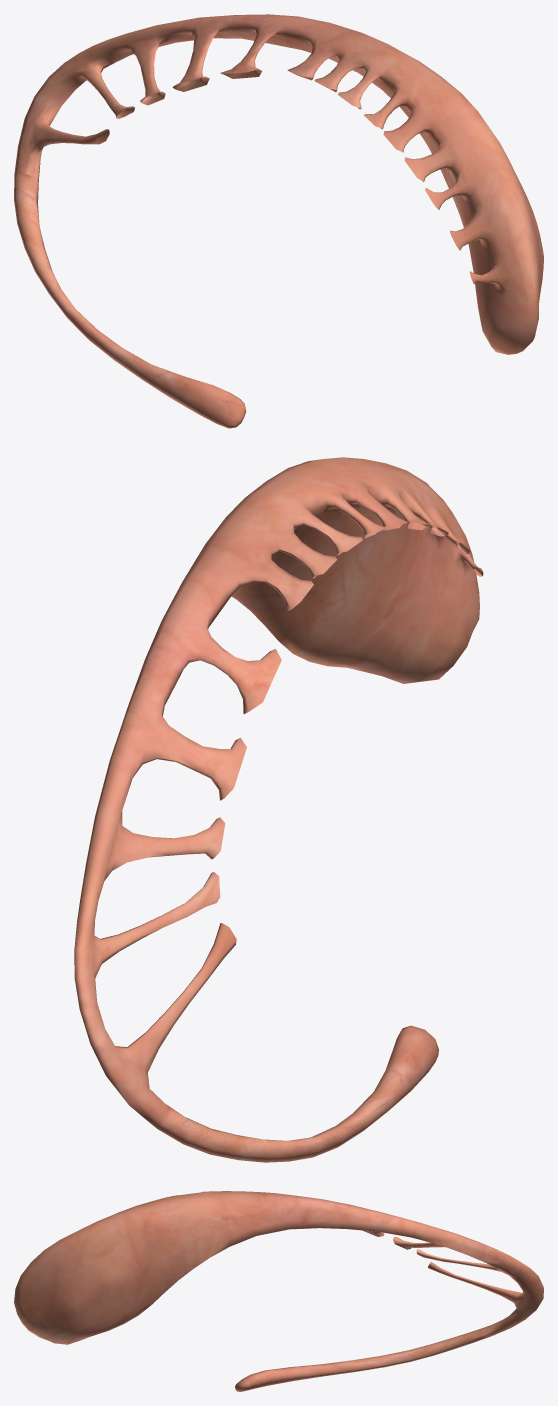
File: r_caudate01.fbx
3 views of the same model, one above another, from view 1: azimuth 30°, elevation 25°; view 2: azimuth 150°, elevation 25°; view 3: azimuth 270°, elevation 25° (orthographic). The views are drawn at different scales.
Parts seen in each view (by area): view 1: R_Caudate_Nucleus; view 2: R_Caudate_Nucleus; view 3: R_Caudate_Nucleus.
Part boxes in pixels (bbox=[...]): R_Caudate_Nucleus: bbox=[14, 14, 543, 428]; R_Caudate_Nucleus: bbox=[74, 457, 483, 1162]; R_Caudate_Nucleus: bbox=[14, 1191, 543, 1391].
Size of the model in its own units: 2.6 by 3.69 by 7.26.
Materials: 1 (1 with a texture image).
